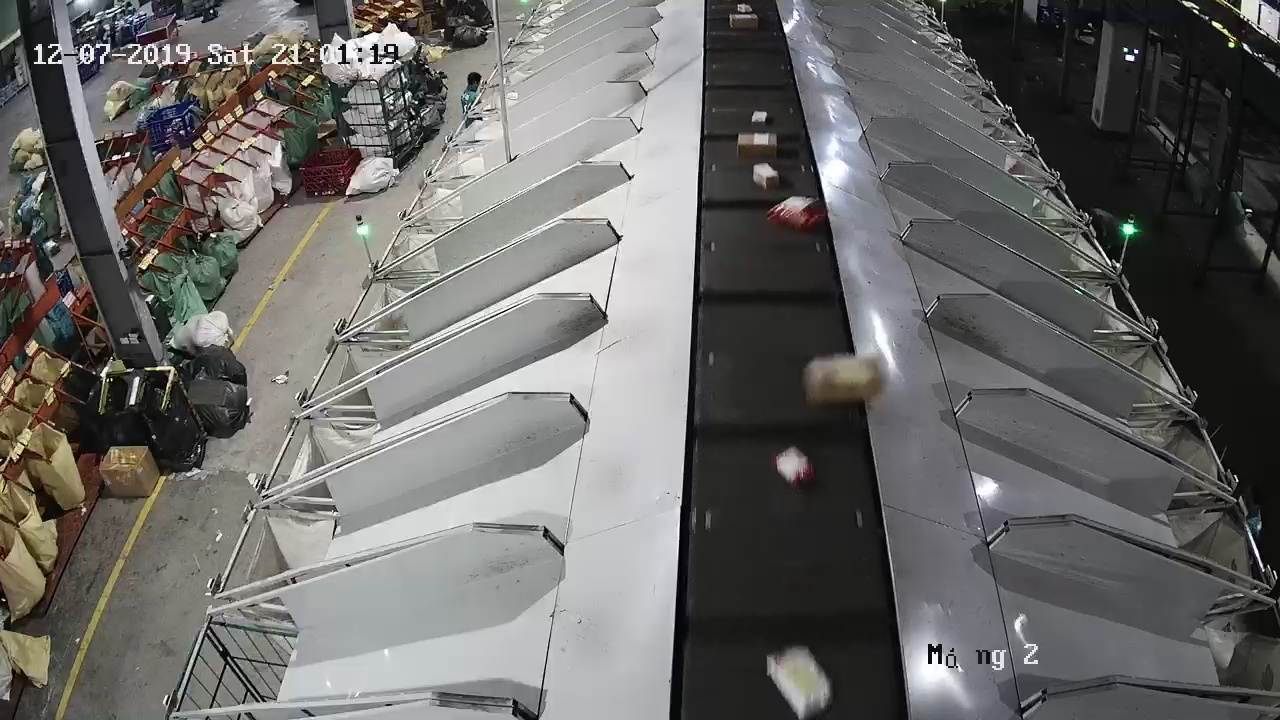parcel: (800, 350, 882, 406), (765, 194, 827, 233)
